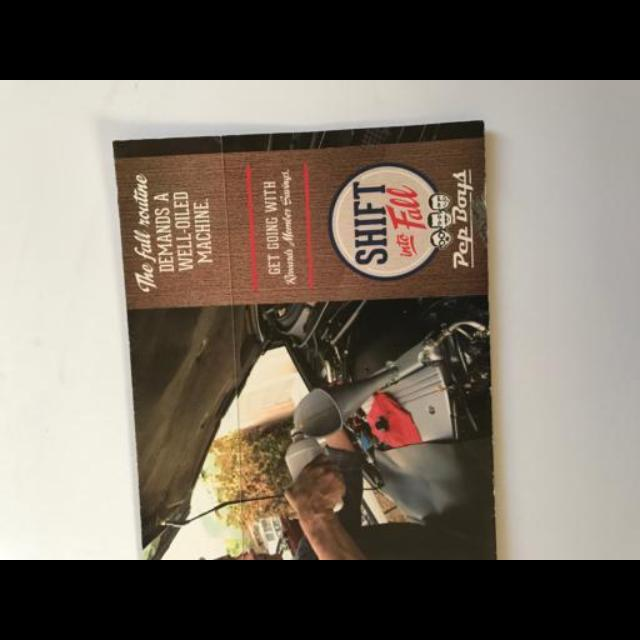papel: (112, 120, 496, 560)
